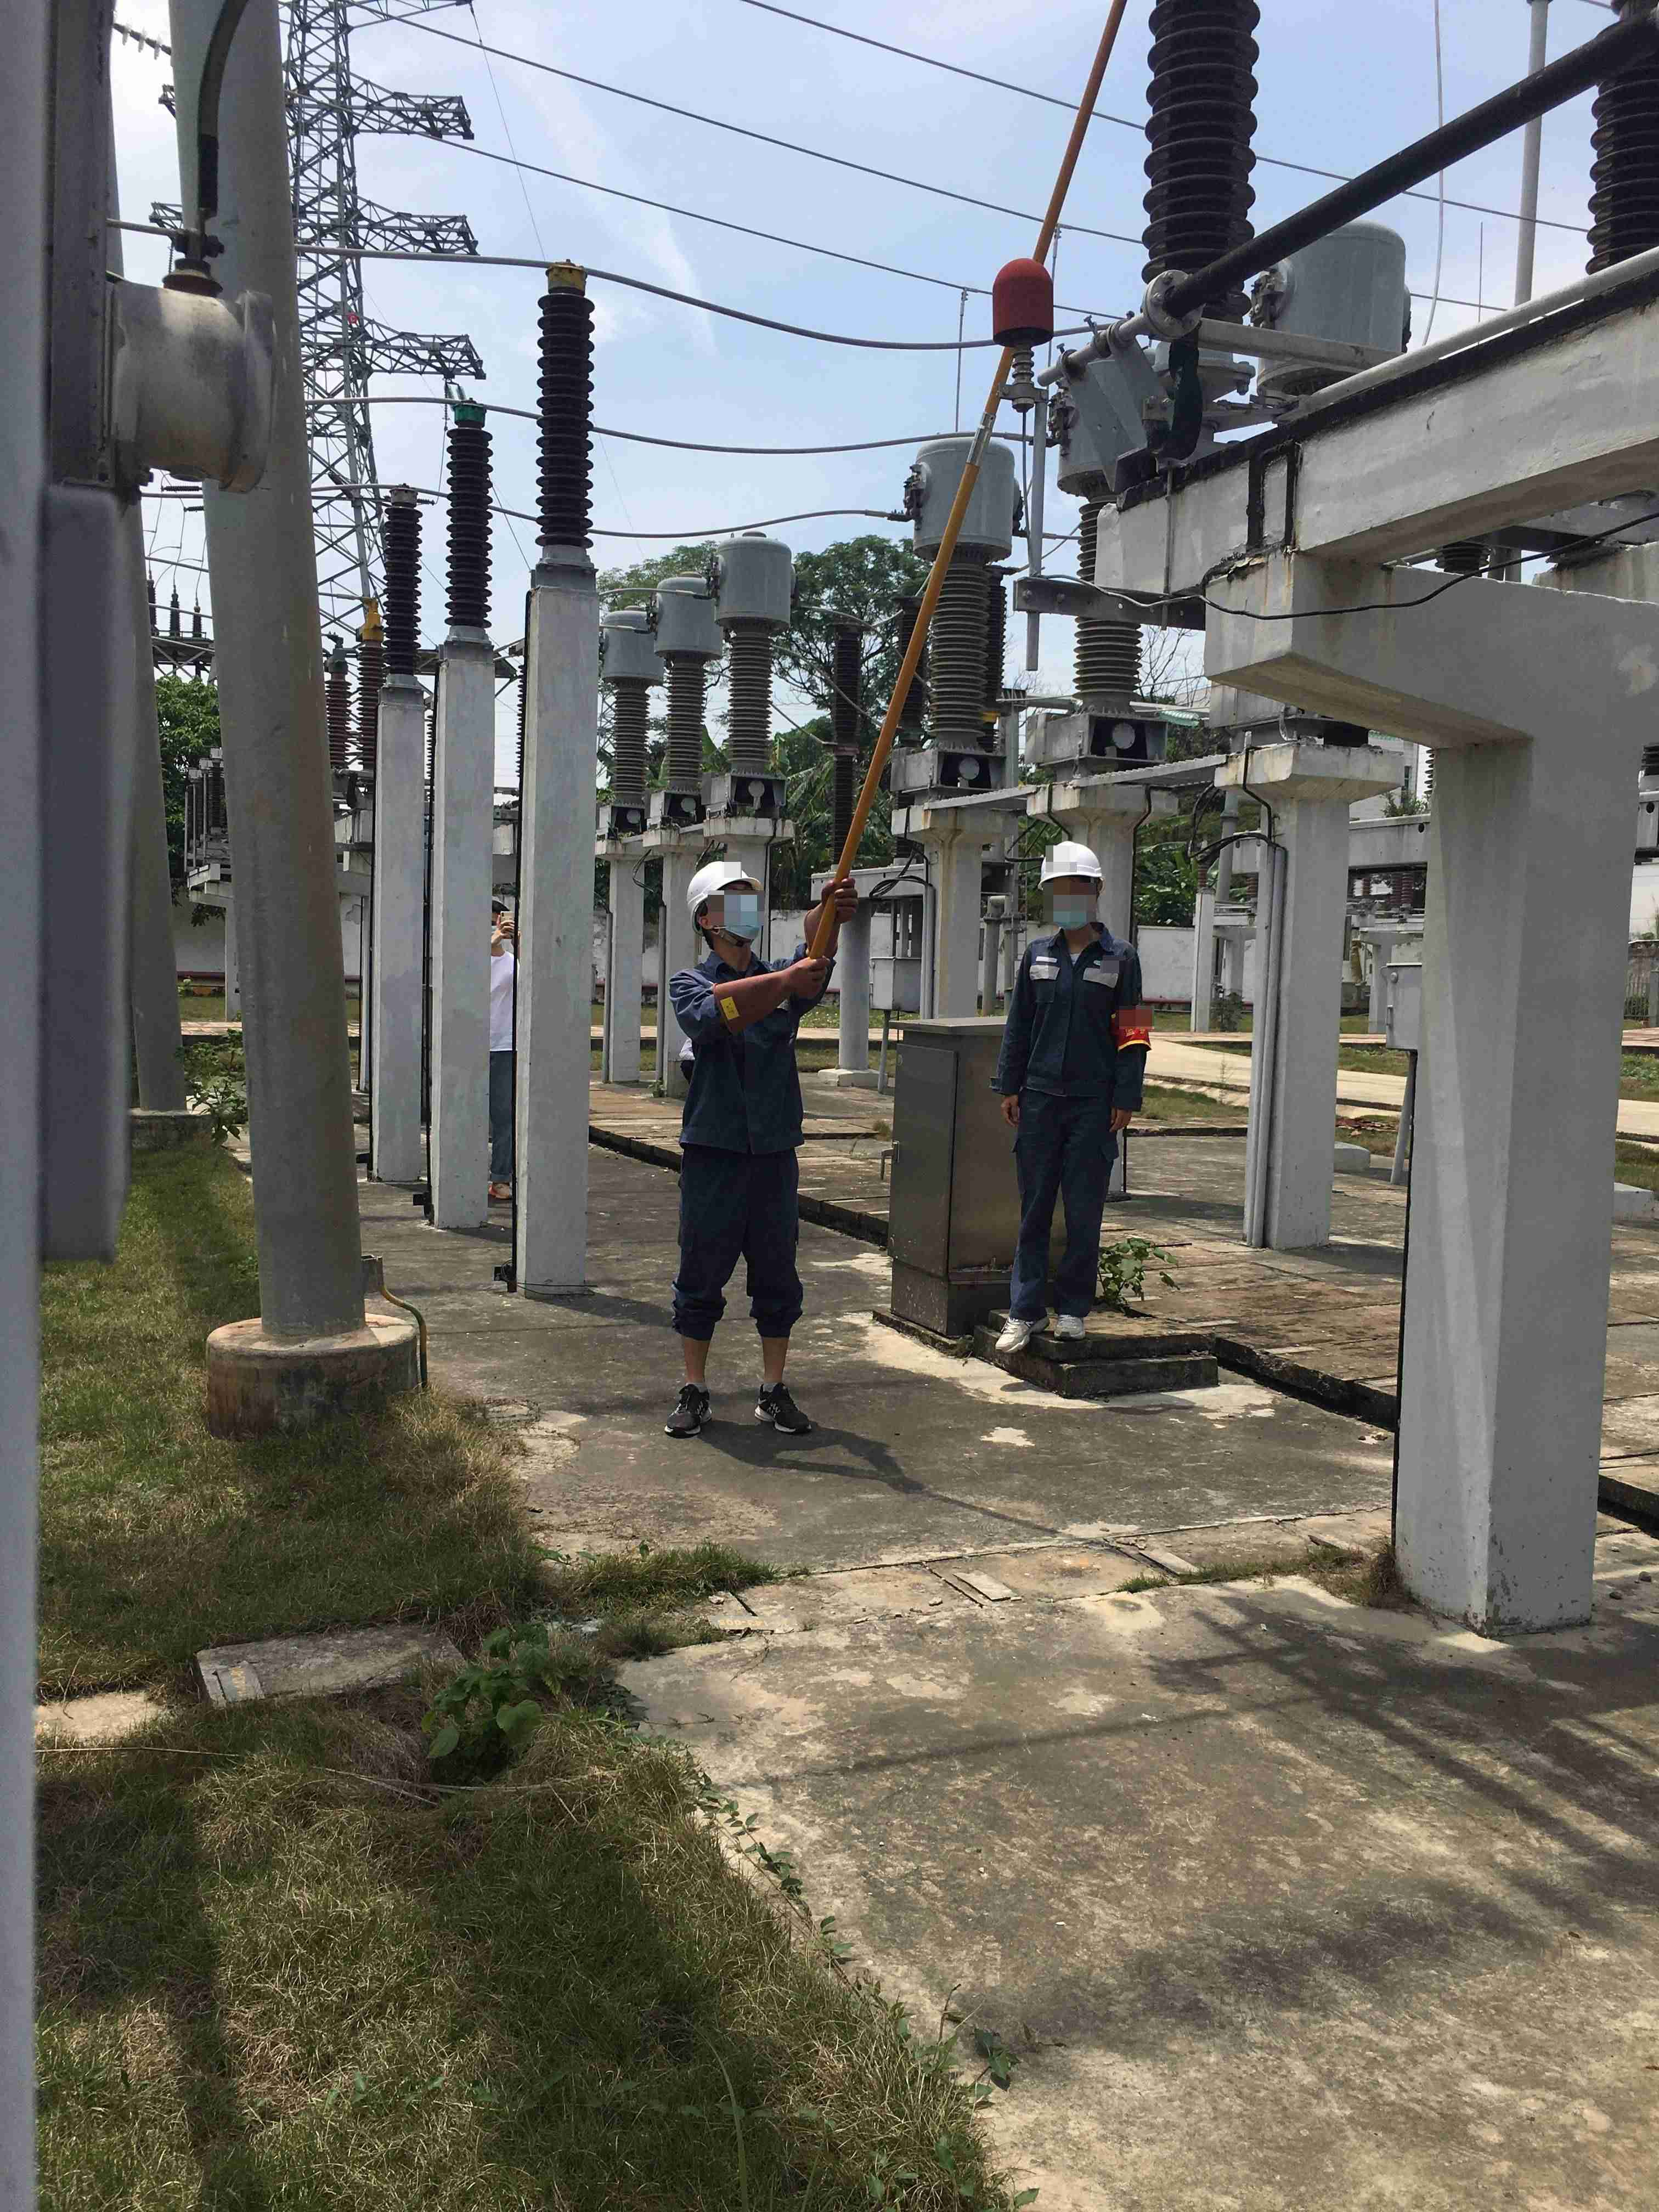downcloth: (490, 1052, 516, 1184)
downsuit: (1011, 1108, 1134, 1320), (674, 1157, 803, 1341)
upcloth: (490, 953, 519, 1054)
upsuit: (669, 958, 826, 1157), (992, 920, 1154, 1106)
wrongbottom: (746, 1291, 803, 1385), (673, 1292, 730, 1381)
